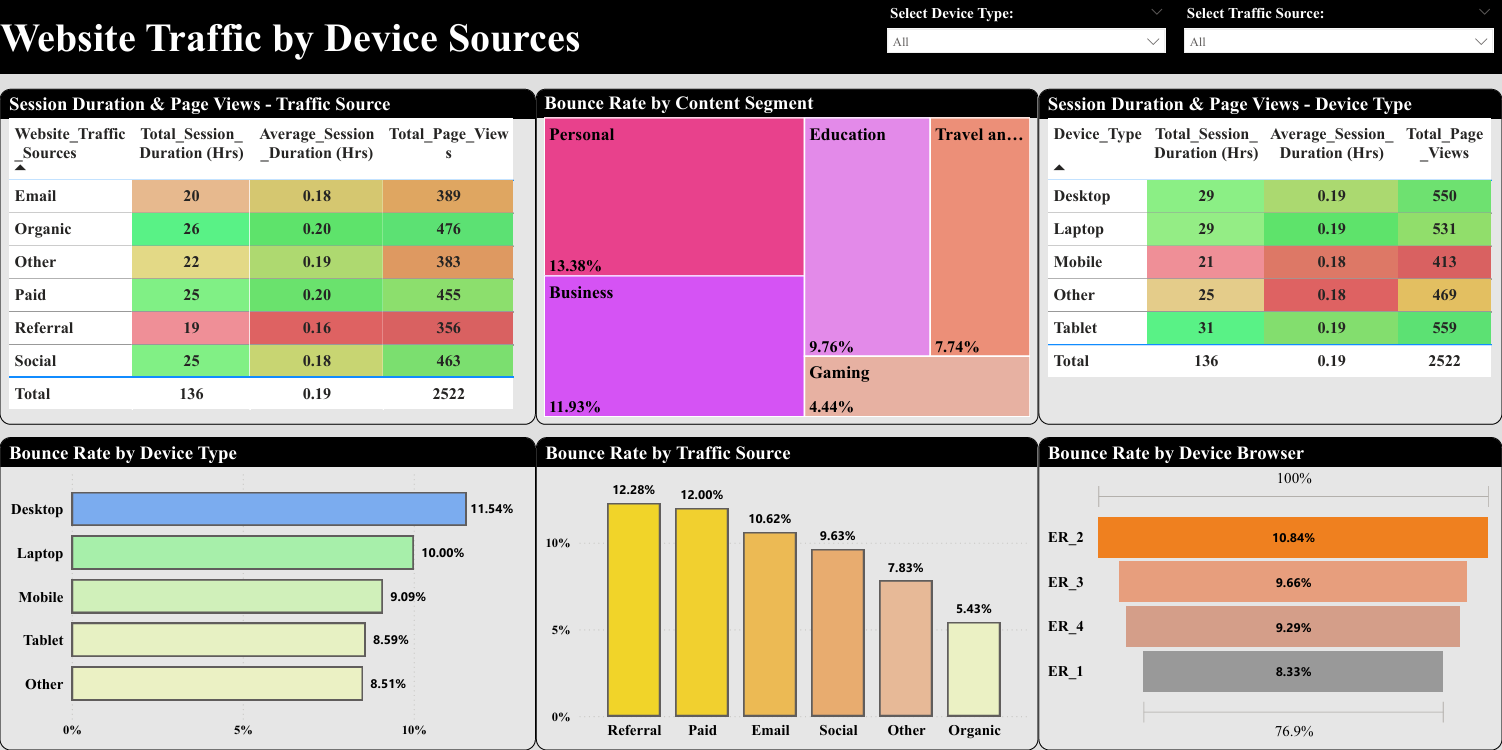

The page's visual inventory and layout, read from the dashboard file:
{"tool":"powerbi","page":{"name":"Website_Traffic_by_Device_Sources","canvas":[1600,800],"ordinal":1},"visuals":[{"type":"tableEx","title":"Session Duration & Page Views - Traffic Source","fields":{"Values":["website_traffic source_lookup.Website_Traffic_Sources","#Measures.Total_Session_Duration","#Measures.Average_Session_Duration","#Measures.Total_Page_Views"]},"box":[0,94.5,571.2,357.6],"z":0},{"type":"shape","box":[0,0,934.6,78.5],"z":1000},{"type":"tableEx","title":"Session Duration & Page Views - Device Type","fields":{"Values":["website_traffic device_lookup.Device_Type","#Measures.Total_Session_Duration","#Measures.Average_Session_Duration","#Measures.Total_Page_Views"]},"box":[1106.1,94.5,494.2,357.6],"z":2000},{"type":"clusteredBarChart","title":"Bounce Rate by Device Type","fields":{"Y":["#Measures.Bounce_Rate"],"Category":["website_traffic device_lookup.Device_Type"]},"box":[0,465.1,571.2,334.3],"z":3000},{"type":"treemap","title":"Bounce Rate by Content Segment","fields":{"Group":["website_traffic device_lookup.Content_Segment"],"Values":["#Measures.Bounce_Rate"]},"box":[571.2,94.5,534.9,357.6],"z":4000},{"type":"clusteredColumnChart","title":"Bounce Rate by Traffic Source","fields":{"Category":["website_traffic source_lookup.Website_Traffic_Sources"],"Y":["#Measures.Bounce_Rate"]},"box":[571.2,465.1,534.9,334.3],"z":5000},{"type":"funnel","title":"Bounce Rate by Device Browser","fields":{"Y":["#Measures.Bounce_Rate"],"Category":["website_traffic device_lookup.Device_Browser"]},"box":[1106.1,465.1,494.2,334.3],"z":6000},{"type":"slicer","fields":{"Values":["website_traffic device_lookup.Device_Type"]},"box":[934.6,0,316.9,78.5],"z":7000},{"type":"slicer","fields":{"Values":["website_traffic source_lookup.Website_Traffic_Sources"]},"box":[1251.5,0,348.8,78.5],"z":10000}]}

Visuals, with their boxes in screenshot pixels (x1, y1, x2, y2), scaled from the page's 1600x800 canvas onto the 1502x750 screenshot:
"Session Duration & Page Views - Traffic Source" tableEx: locate(0, 89, 536, 424)
shape: locate(0, 0, 877, 74)
"Session Duration & Page Views - Device Type" tableEx: locate(1038, 89, 1501, 424)
"Bounce Rate by Device Type" clusteredBarChart: locate(0, 436, 536, 749)
"Bounce Rate by Content Segment" treemap: locate(536, 89, 1038, 424)
"Bounce Rate by Traffic Source" clusteredColumnChart: locate(536, 436, 1038, 749)
"Bounce Rate by Device Browser" funnel: locate(1038, 436, 1501, 749)
slicer - website_traffic device_lookup.Device_Type: locate(877, 0, 1175, 74)
slicer - website_traffic source_lookup.Website_Traffic_Sources: locate(1175, 0, 1501, 74)
